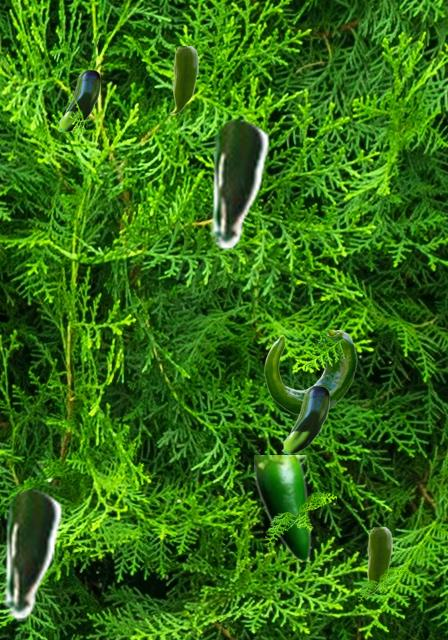green_chili: (0, 487, 62, 619), (207, 117, 269, 249), (264, 330, 356, 414), (254, 455, 310, 561), (281, 386, 328, 453), (57, 70, 99, 131), (169, 46, 197, 114), (366, 527, 391, 595)
